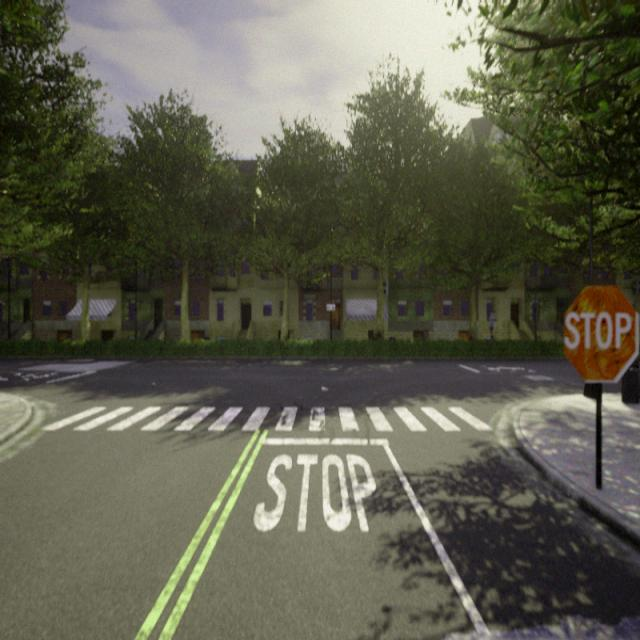stop sign: (559, 280, 638, 386), (563, 308, 633, 352)
